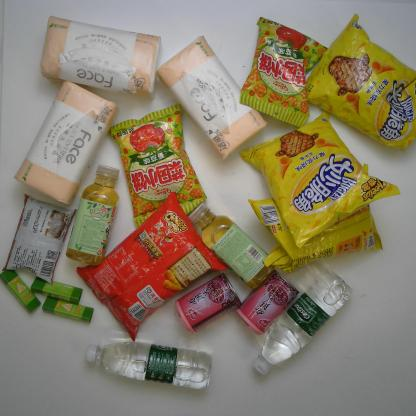Canned Food: (173, 270, 243, 336), (234, 270, 301, 336)
Drink: (249, 266, 354, 378), (185, 199, 276, 292), (83, 339, 215, 391), (64, 162, 122, 268)
Puffed Food: (75, 188, 232, 345), (237, 106, 404, 248), (305, 11, 416, 156), (108, 101, 209, 230), (244, 196, 388, 274), (237, 15, 330, 129)
Seasoner: (3, 190, 79, 287)
Stationery: (0, 266, 44, 315), (40, 294, 96, 326), (29, 275, 85, 306)
Tissue: (154, 34, 270, 163), (12, 78, 119, 207), (36, 13, 163, 101)
